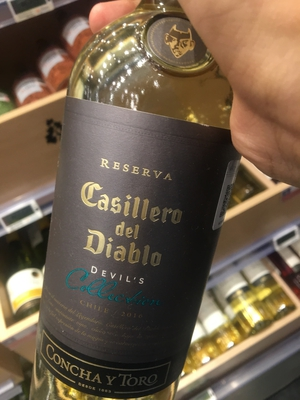casillero del diablo devils collection verde: (45, 14, 236, 400)
